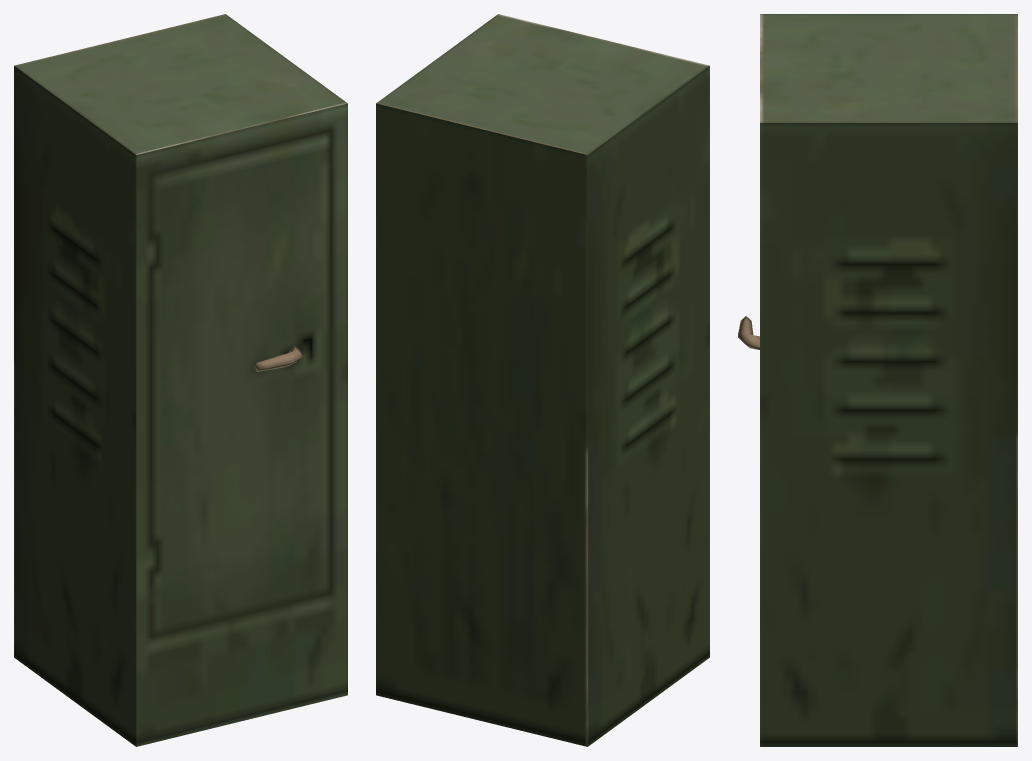
Rendered from LockerClosed.glb.
3 renders of one model, left to right at view 1: azimuth 30°, elevation 25°; view 2: azimuth 150°, elevation 25°; view 3: azimuth 270°, elevation 25°, orthographic. The views are drawn at different scales.
Visible parts, largest first — view 1: LOCKERCLOSED; view 2: LOCKERCLOSED; view 3: LOCKERCLOSED.
Boxes of the visible parts, bbox=[...] form: LOCKERCLOSED: bbox=[14, 14, 347, 746]; LOCKERCLOSED: bbox=[376, 14, 709, 746]; LOCKERCLOSED: bbox=[738, 14, 1017, 746].
Bounding box in the file's own units: 0.75 × 2 × 0.814.
Materials: 1 (1 with a texture image).
